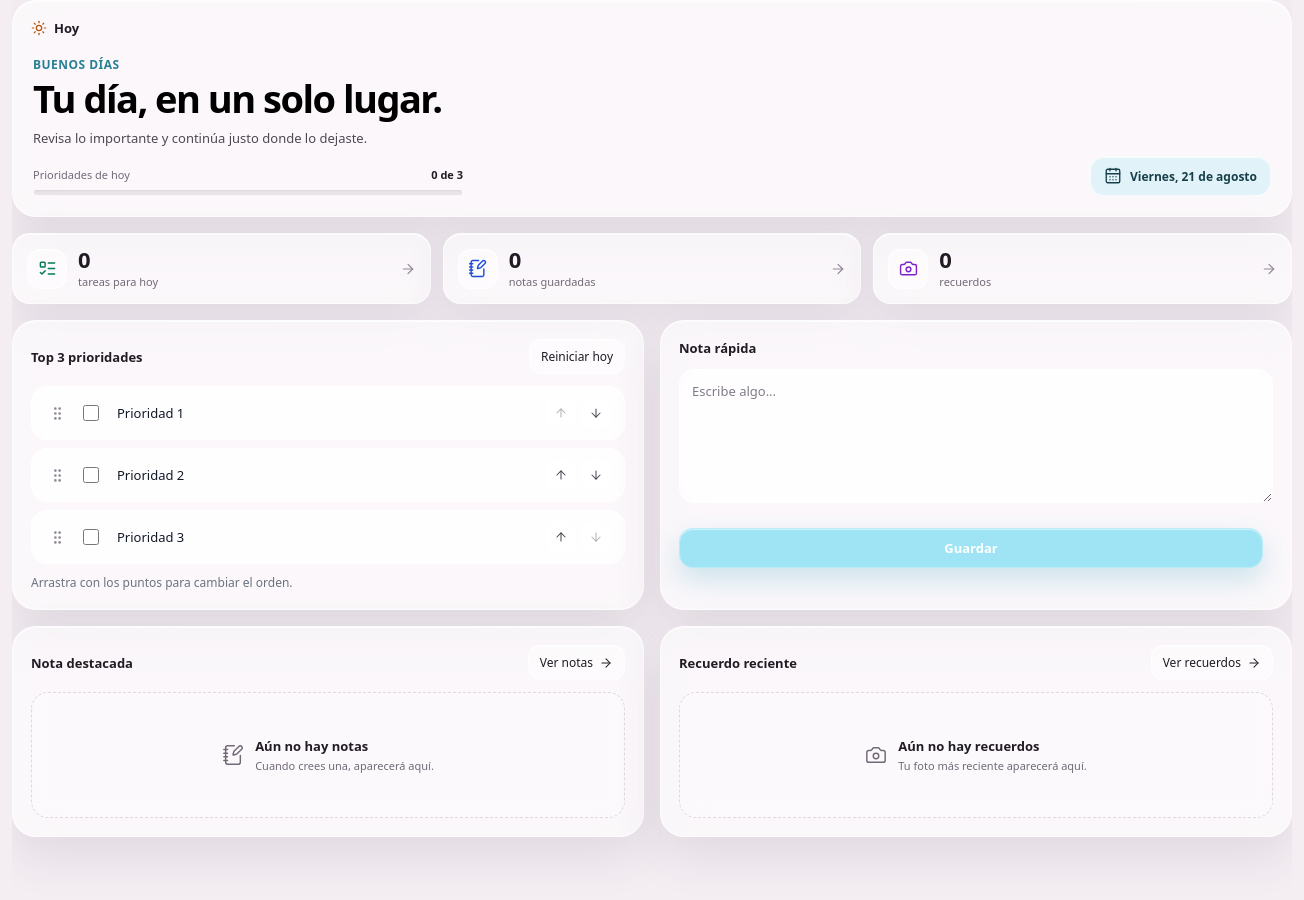
Test case: Hoy › edita, completa, reordena y reinicia las prioridades compartidas
Type "Preparar sorpresa" into the field named "Texto de prioridad 1" at (324, 413), box [112,400,536,426]
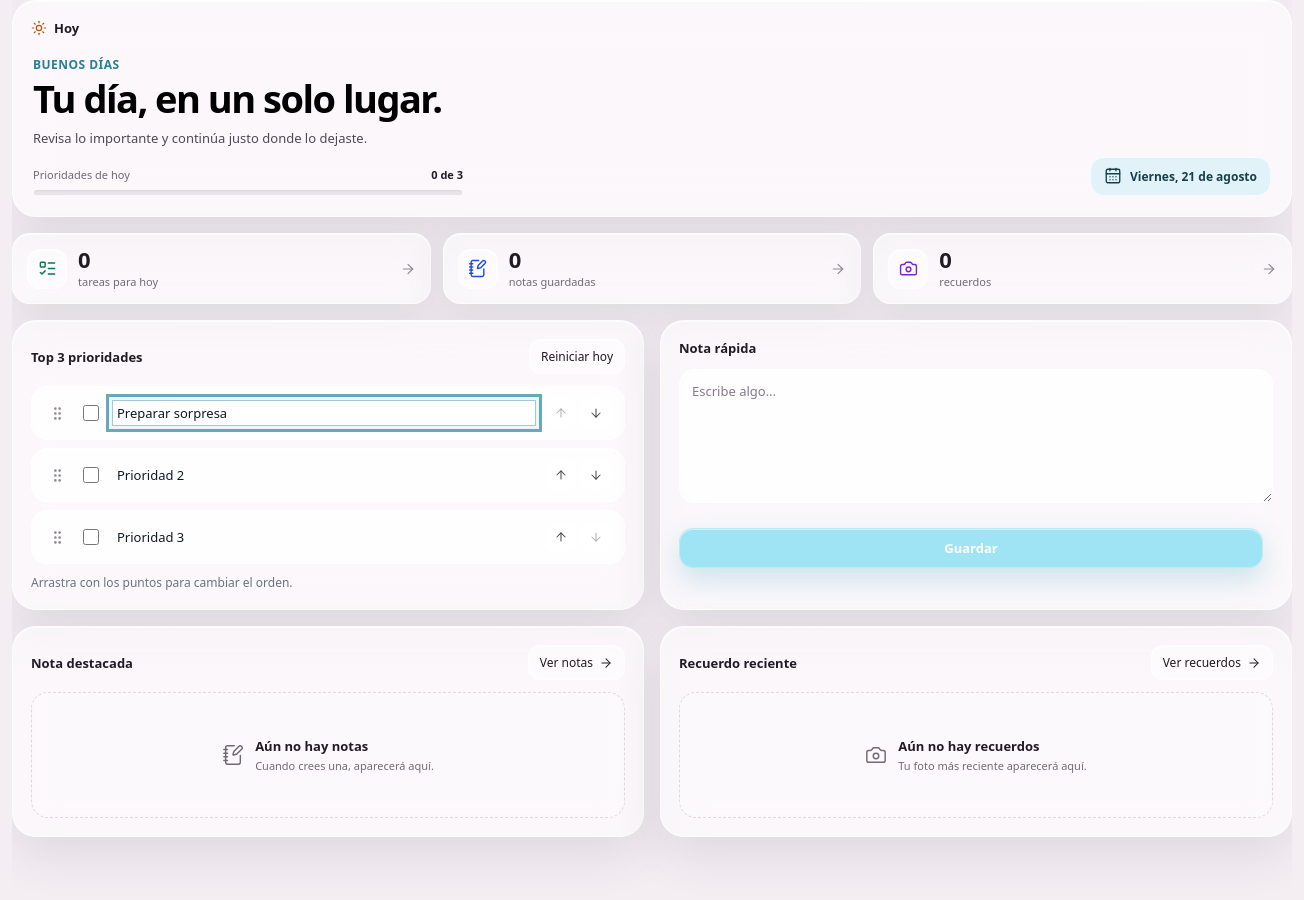
Click the checkbox named "Marcar Preparar sorpresa" at (91, 413), box [83,405,99,421]
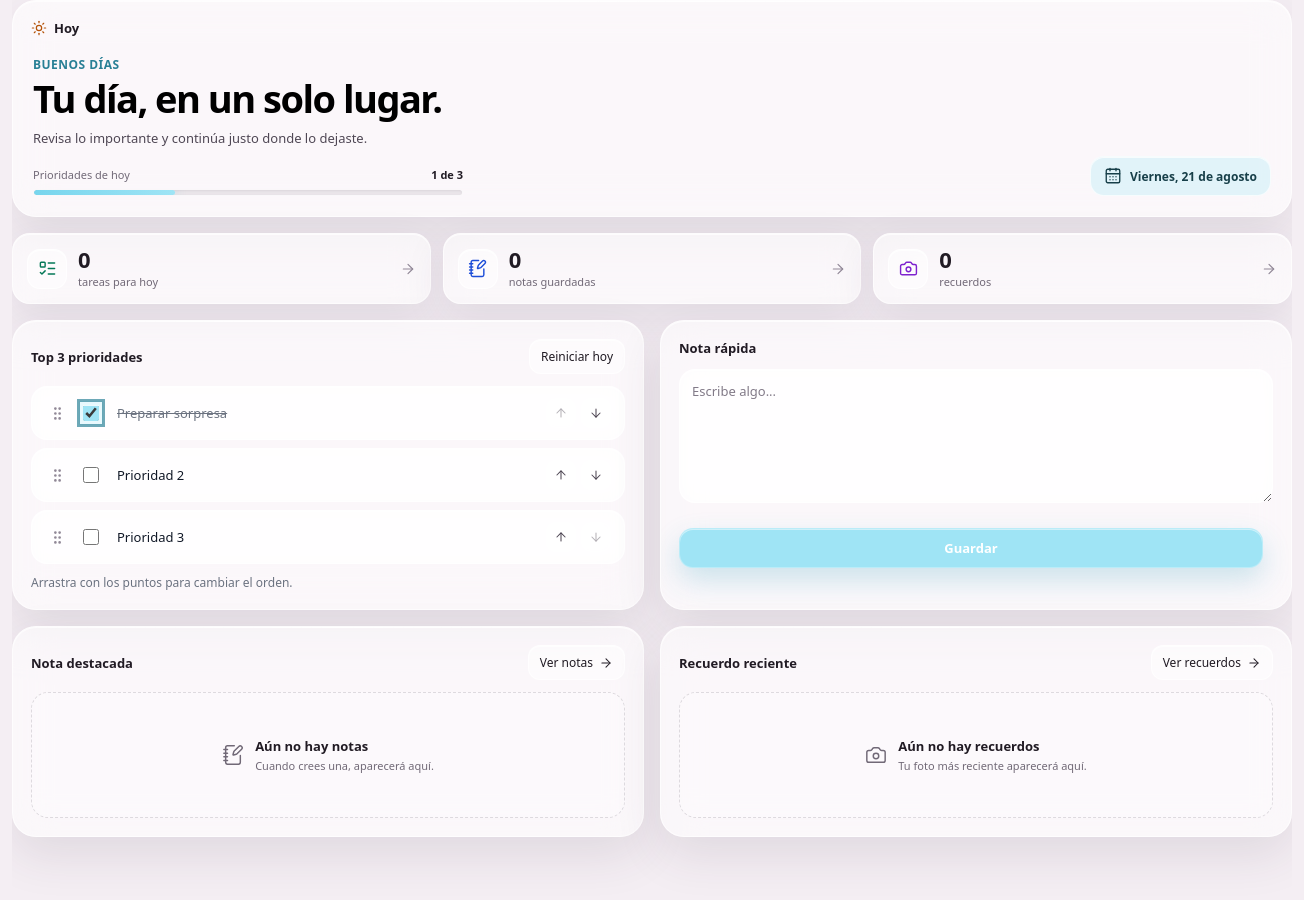
Click the button named "Mover Preparar sorpresa hacia abajo" at (596, 413), box [581,398,611,428]
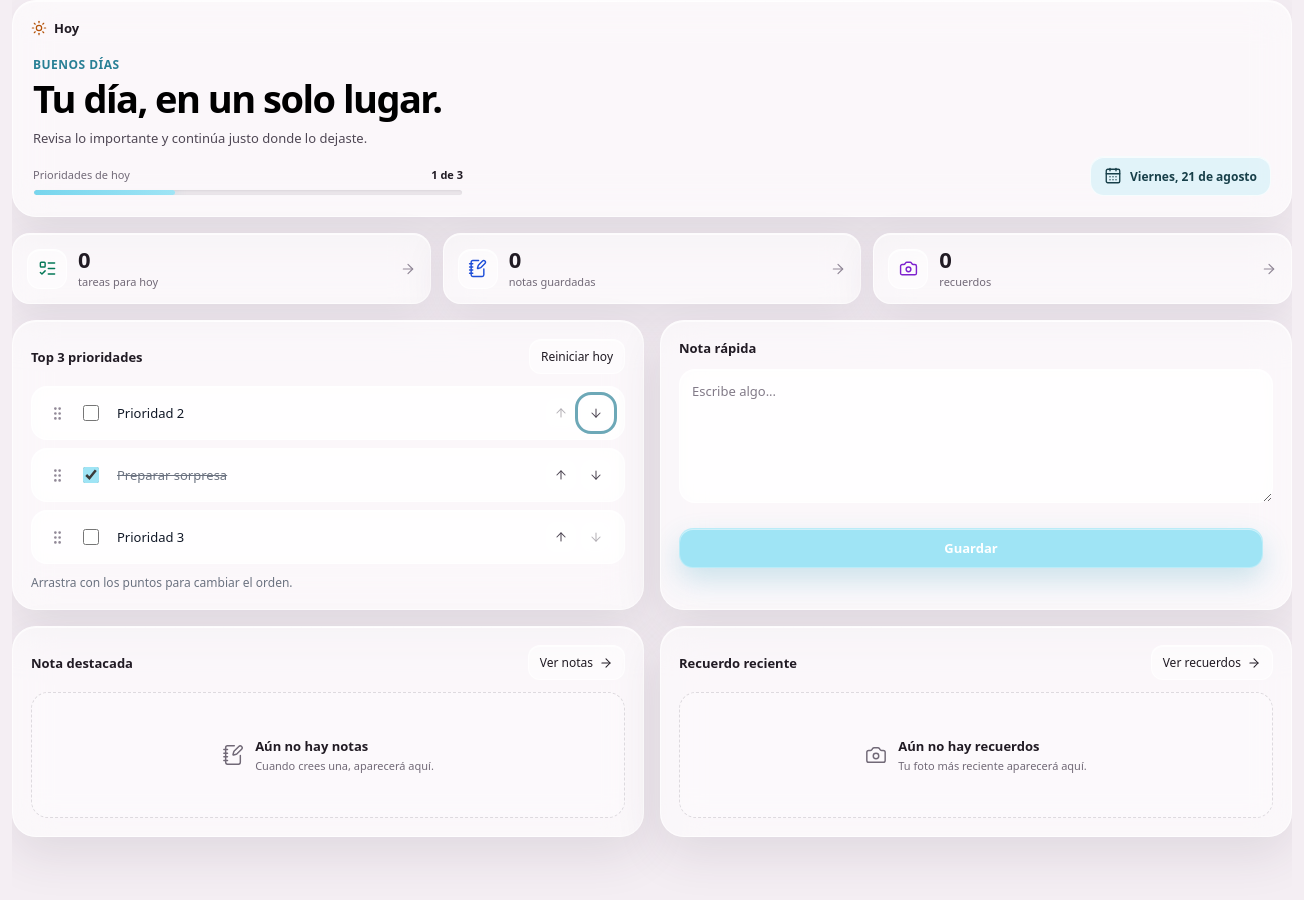
Result: the field showing "Preparar sorpresa" is shown at [112,462,536,488]
Result: the checkbox named "Desmarcar Preparar sorpresa" is checked at [83,467,99,483]
Click the button "Reiniciar hoy" at (577, 357), box [529,339,625,374]
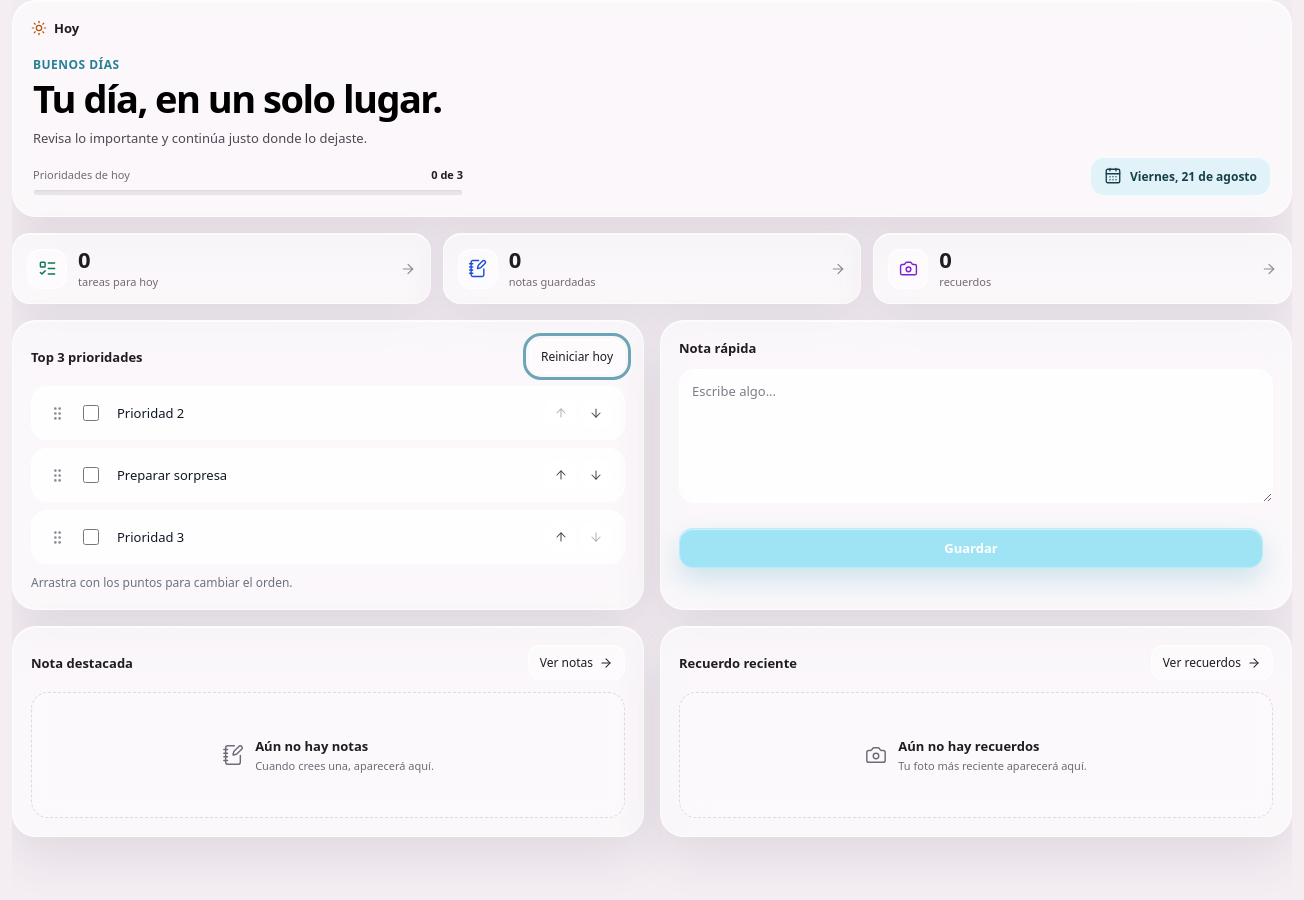
Result: the checkbox named "Marcar Preparar sorpresa" is not checked at [83,467,99,483]
